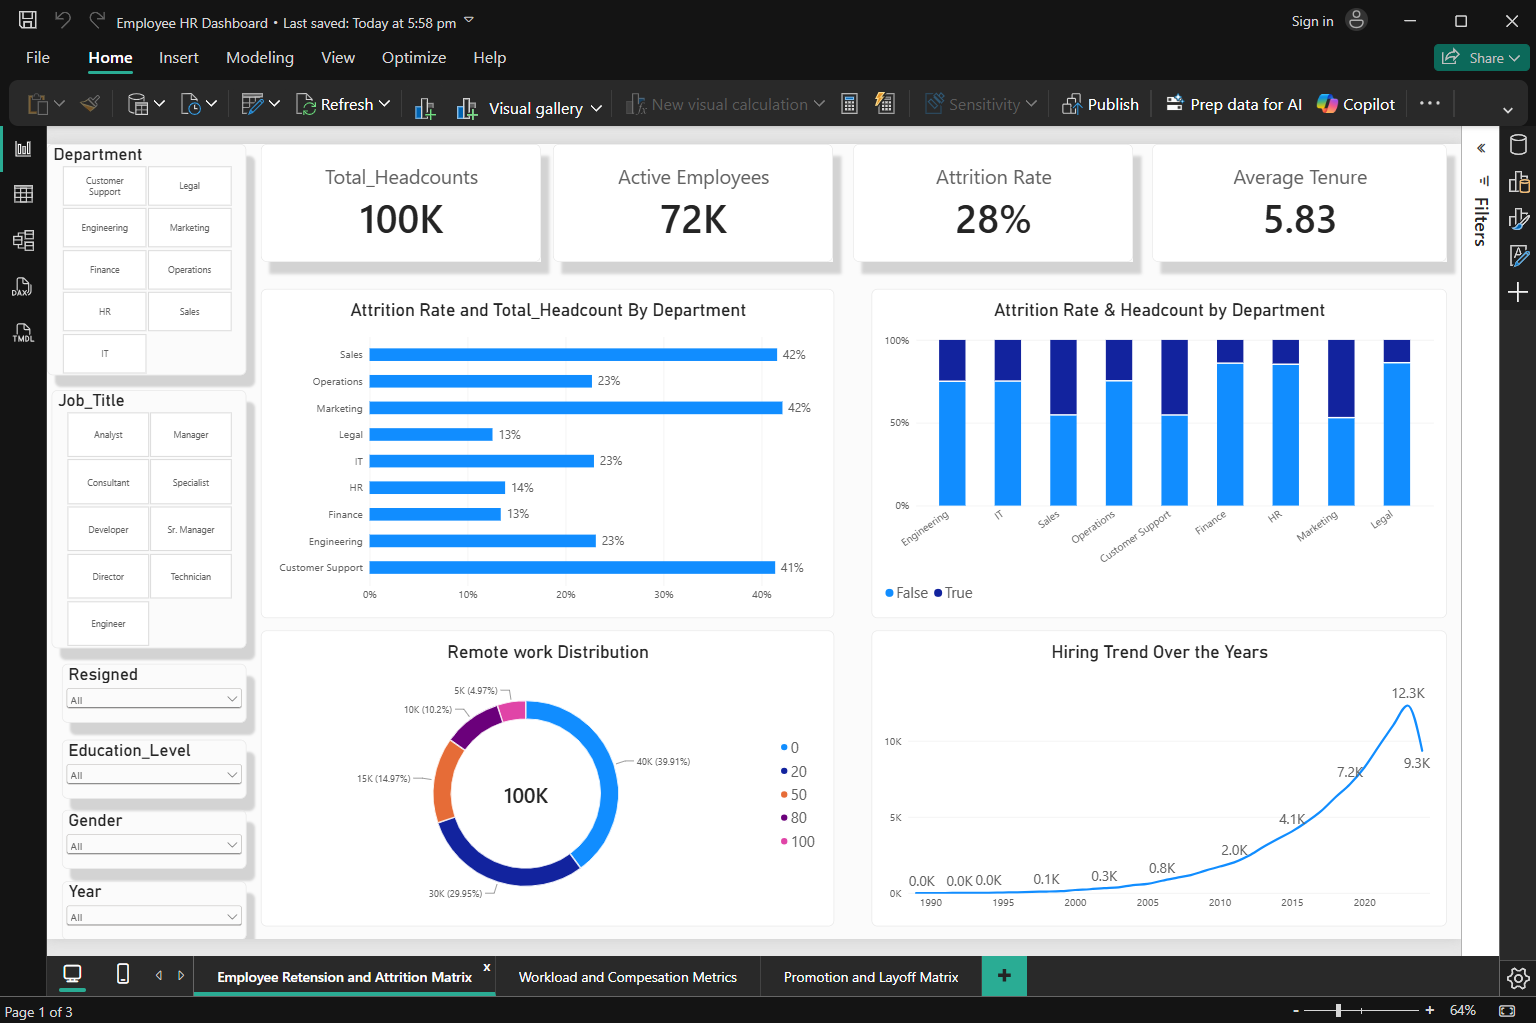

Layout of this report page (visuals, bound fields, positions):
{"tool":"powerbi","page":{"name":"Employee Retension and Attrition Matrics","canvas":[1920,1080],"ordinal":0},"visuals":[{"type":"slicer","fields":{"Values":["employee_hr_db vw_fact_record.Resigned"]},"box":[20,706,250,80],"z":0},{"type":"slicer","fields":{"Values":["employee_hr_db vw_dim_employee.Department"]},"box":[0,0,270,314],"z":1000},{"type":"slicer","fields":{"Values":["employee_hr_db vw_dim_employee.Job_Title"]},"box":[6,334,264,350],"z":2000},{"type":"slicer","fields":{"Values":["employee_hr_db vw_dim_employee.Education_Level"]},"box":[20,808,250,80],"z":3000},{"type":"slicer","fields":{"Values":["employee_hr_db vw_dim_employee.Gender"]},"box":[20,904,250,80],"z":4000},{"type":"slicer","fields":{"Values":["employee_hr_db vw_fact_record.Hire_Date.Variation.Date Hierarchy.Year"]},"box":[20,1000,250,80],"z":5000},{"type":"cardVisual","fields":{"Data":["employee_hr_db vw_fact_record.Total_Headcounts"]},"box":[290,0,380,160],"z":6000},{"type":"cardVisual","fields":{"Data":["employee_hr_db vw_fact_record.Active Employees"]},"box":[687.2,0,380,160],"z":7000},{"type":"cardVisual","fields":{"Data":["Avg(employee_hr_db vw_fact_record.Years_At_Company)"]},"box":[1500.1,0,400,160],"z":8000},{"type":"cardVisual","fields":{"Data":["employee_hr_db vw_fact_record.Attrition Rate"]},"box":[1095.1,0,380,160],"z":9000},{"type":"clusteredBarChart","title":"Attrition Rate and Total_Headcount By Department","fields":{"Category":["employee_hr_db vw_dim_employee.Department"],"Y":["employee_hr_db vw_fact_record.Attrition Rate"]},"box":[289.7,196.8,778.5,446.7],"z":10000},{"type":"hundredPercentStackedColumnChart","title":"Attrition Rate & Headcount by Department","fields":{"Category":["employee_hr_db vw_dim_employee.Department"],"Series":["employee_hr_db vw_fact_record.Resigned"],"Y":["employee_hr_db vw_fact_record.Total_Headcounts"]},"box":[1119,196.8,780.7,446.7],"z":11000},{"type":"donutChart","title":"Remote work Distribution","fields":{"Category":["employee_hr_db vw_fact_workload.Remote_Work_Frequency"],"Y":["employee_hr_db vw_fact_record.Total_Headcounts"]},"box":[290,660,778,402],"z":12000},{"type":"lineChart","title":"Hiring Trend Over the Years","fields":{"Category":["employee_hr_db vw_fact_record.Hire_Date.Variation.Date Hierarchy.Year"],"Y":["CountNonNull(employee_hr_db vw_dim_employee.Employee_ID)"]},"box":[1119,660,781,402],"z":12001}]}

Visuals, with their boxes on the page's 1920x1080 design canvas (x1, y1, x2, y2). These are canvas units, not pixel positions in the 1536x1023 screenshot, which may show the page scaled, cropped or inside an application window:
slicer - employee_hr_db vw_fact_record.Resigned: 20 706 270 786
slicer - employee_hr_db vw_dim_employee.Department: 0 0 270 314
slicer - employee_hr_db vw_dim_employee.Job_Title: 6 334 270 684
slicer - employee_hr_db vw_dim_employee.Education_Level: 20 808 270 888
slicer - employee_hr_db vw_dim_employee.Gender: 20 904 270 984
slicer - employee_hr_db vw_fact_record.Hire_Date.Variation.Date Hierarchy.Year: 20 1000 270 1080
cardVisual - employee_hr_db vw_fact_record.Total_Headcounts: 290 0 670 160
cardVisual - employee_hr_db vw_fact_record.Active Employees: 687 0 1067 160
cardVisual - Avg(employee_hr_db vw_fact_record.Years_At_Company): 1500 0 1900 160
cardVisual - employee_hr_db vw_fact_record.Attrition Rate: 1095 0 1475 160
"Attrition Rate and Total_Headcount By Department" clusteredBarChart: 290 197 1068 644
"Attrition Rate & Headcount by Department" hundredPercentStackedColumnChart: 1119 197 1900 644
"Remote work Distribution" donutChart: 290 660 1068 1062
"Hiring Trend Over the Years" lineChart: 1119 660 1900 1062
